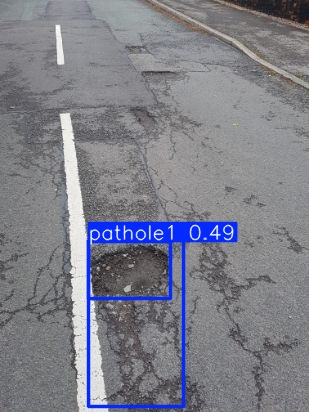pothole: (82, 241, 176, 309)
